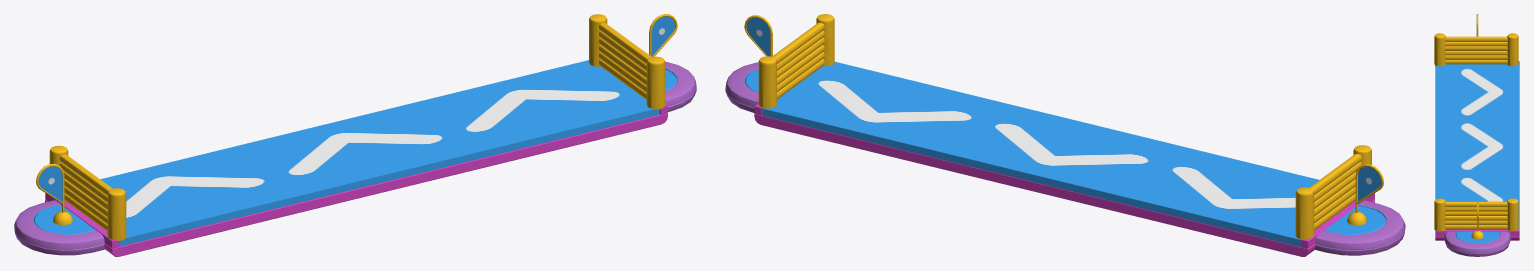
Rendered from PLF0110027.fbx.
The picture shows the model from 3 angles, left to right: view 1: azimuth 30°, elevation 25°; view 2: azimuth 150°, elevation 25°; view 3: azimuth 270°, elevation 25°; orthographic projection. The views are drawn at different scales.
Parts seen in each view (by area): view 1: smPLF0110027; view 2: smPLF0110027; view 3: smPLF0110027.
Boxes of the visible parts, x1,y1,x2,y2 form: smPLF0110027: (14, 14, 696, 256); smPLF0110027: (725, 14, 1405, 256); smPLF0110027: (1434, 14, 1519, 256).
Bounding box in the file's own units: 1634 × 179 × 287.
Materials: 1 (1 with a texture image).
